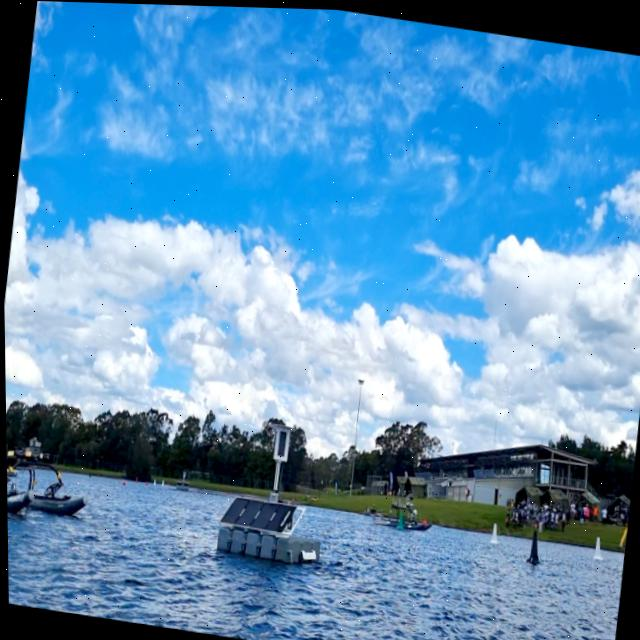led: (272, 426, 288, 458)
